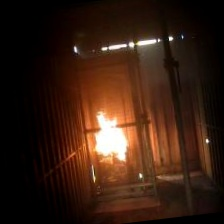fire: (87, 95, 131, 163)
